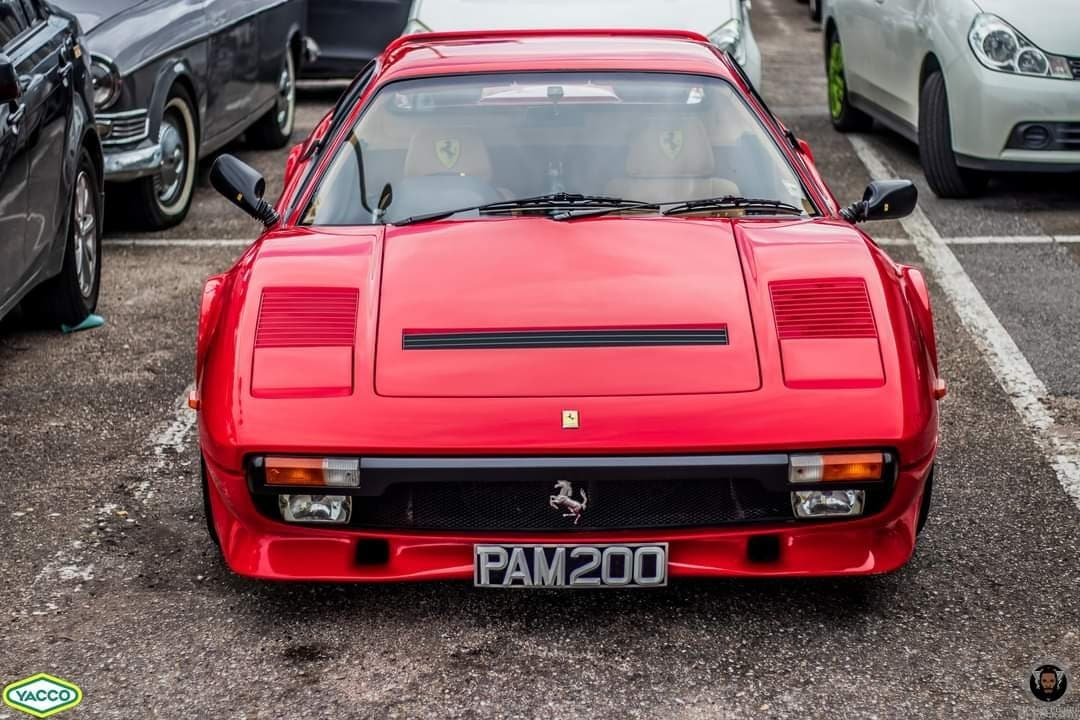License-Plate: (475, 543, 666, 584)
